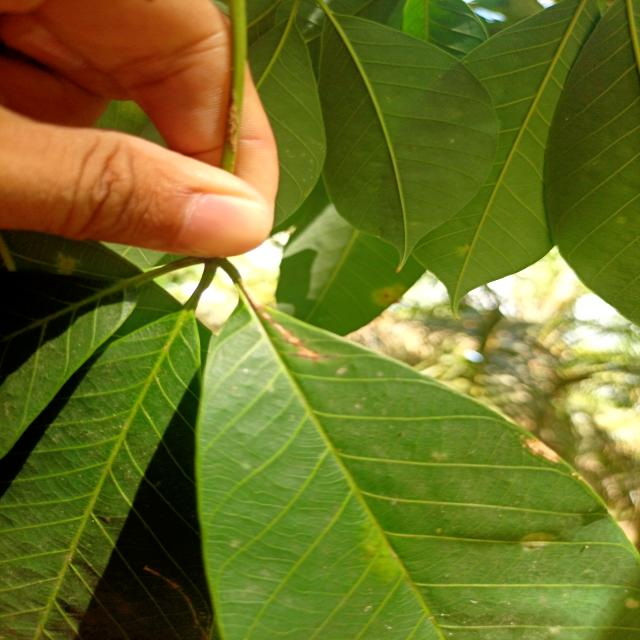Leaf-Blight: (525, 438, 560, 463)
